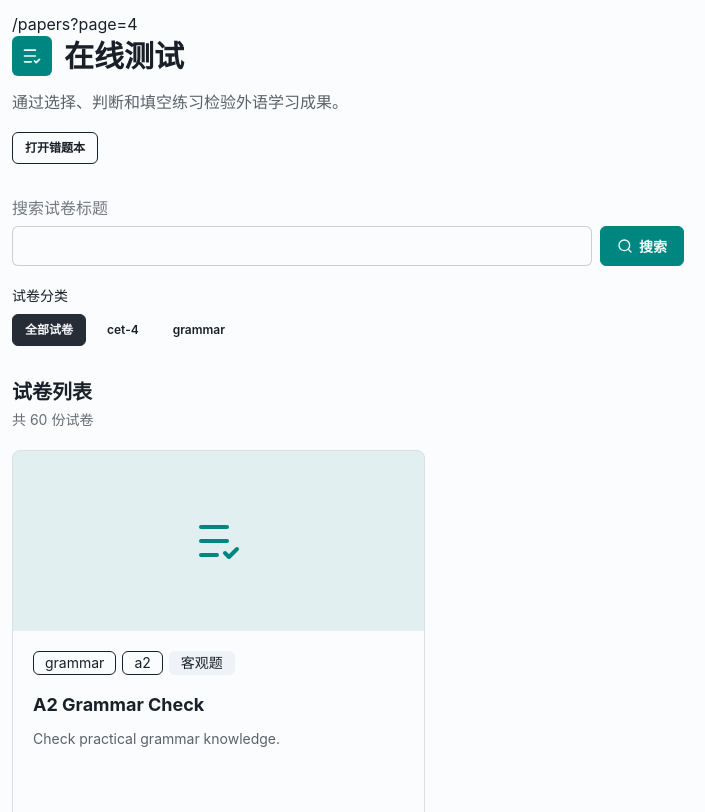
Test case: PapersPage › searches only on submit and resets the page
The width and height of the screenshot is (705, 812).
Check: the heading "A2 Grammar Check" is shown, box [33,694,204,715]
Type "grammar" into the search field labelled "搜索试卷标题". click: (302, 246)
box: [12,226,592,266]
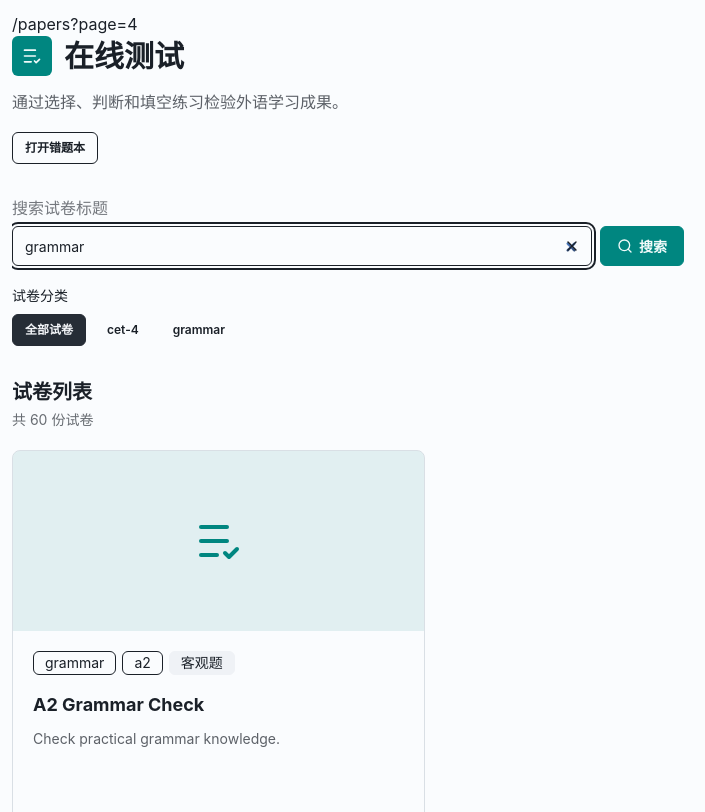
Click the button "搜索". click: (642, 246)
box: [600,226,684,266]
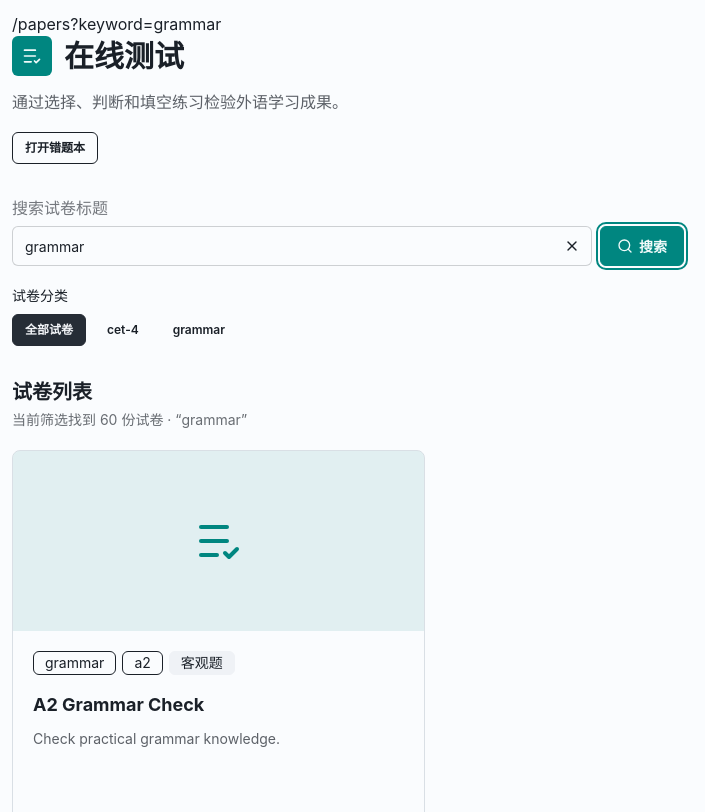
Check: the text with test id "location" reads "/papers?keyword=grammar", box [12,14,221,34]
